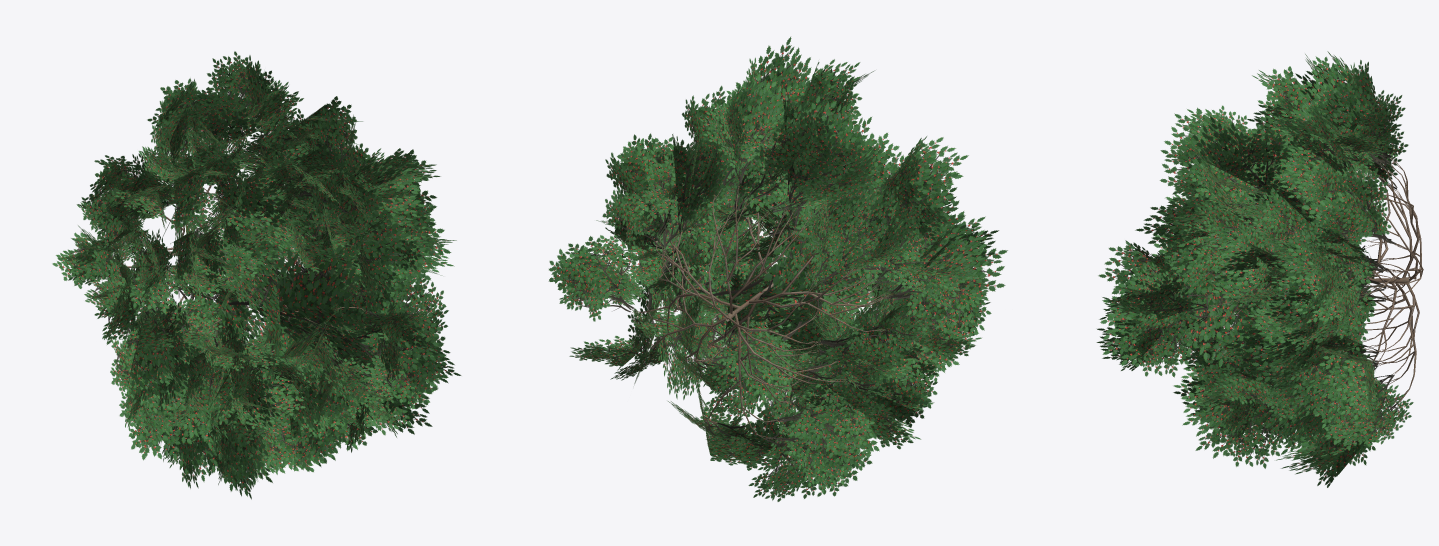
Rendered from HollyShrub.glb.
3 views of the same model, side by side, from view 1: azimuth 30°, elevation 25°; view 2: azimuth 150°, elevation 25°; view 3: azimuth 270°, elevation 25° (orthographic). The views are drawn at different scales.
Visible parts, largest first — view 1: Object_17, Object_16; view 2: Object_17, Object_16; view 3: Object_17, Object_16.
Boxes of the visible parts, box(x1,y1,x2,y2) form: Object_17: box(52, 51, 461, 499); Object_16: box(127, 148, 368, 377); Object_17: box(548, 37, 1007, 501); Object_16: box(631, 181, 895, 440); Object_17: box(1096, 51, 1413, 487); Object_16: box(1204, 157, 1423, 404).
Bounding box in the file's own units: 7.7 × 7.47 × 5.25.
Materials: 2 (2 with a texture image).
